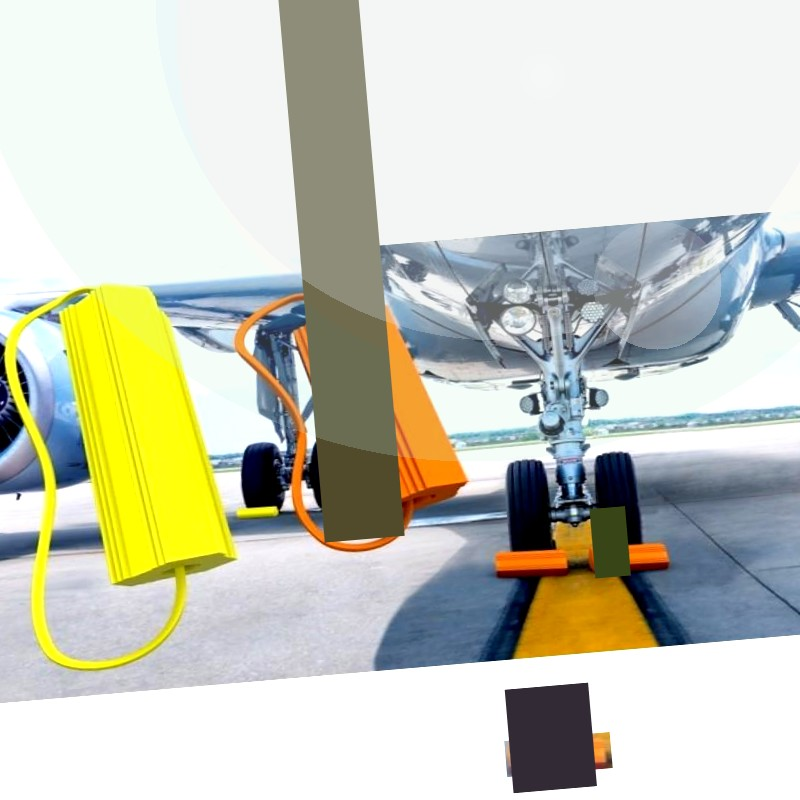chock: (54, 277, 239, 597), (288, 294, 476, 527), (504, 732, 613, 777), (584, 537, 674, 577), (491, 546, 572, 580), (234, 503, 281, 521)
wheel: (592, 450, 644, 548), (502, 458, 554, 553), (239, 438, 288, 513), (307, 433, 354, 509)
